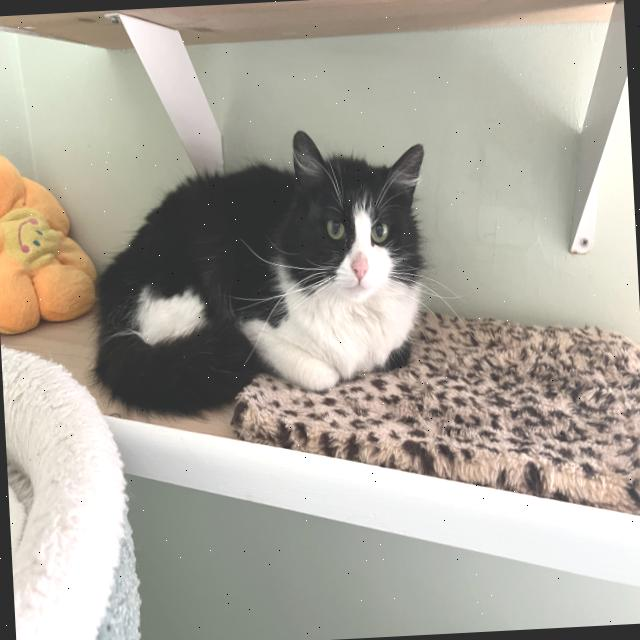maine_coon_cat: (68, 112, 450, 438)
